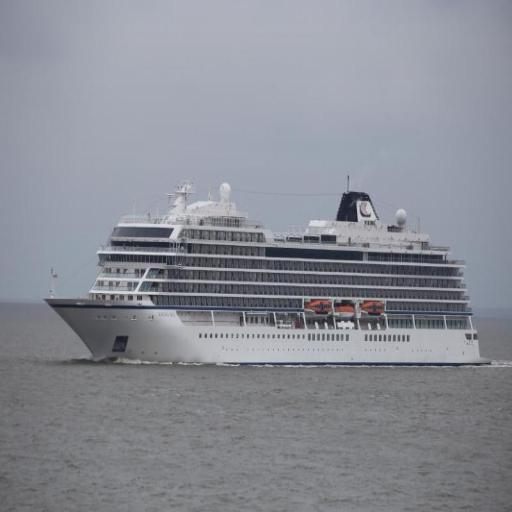cruises: (39, 177, 494, 375)
